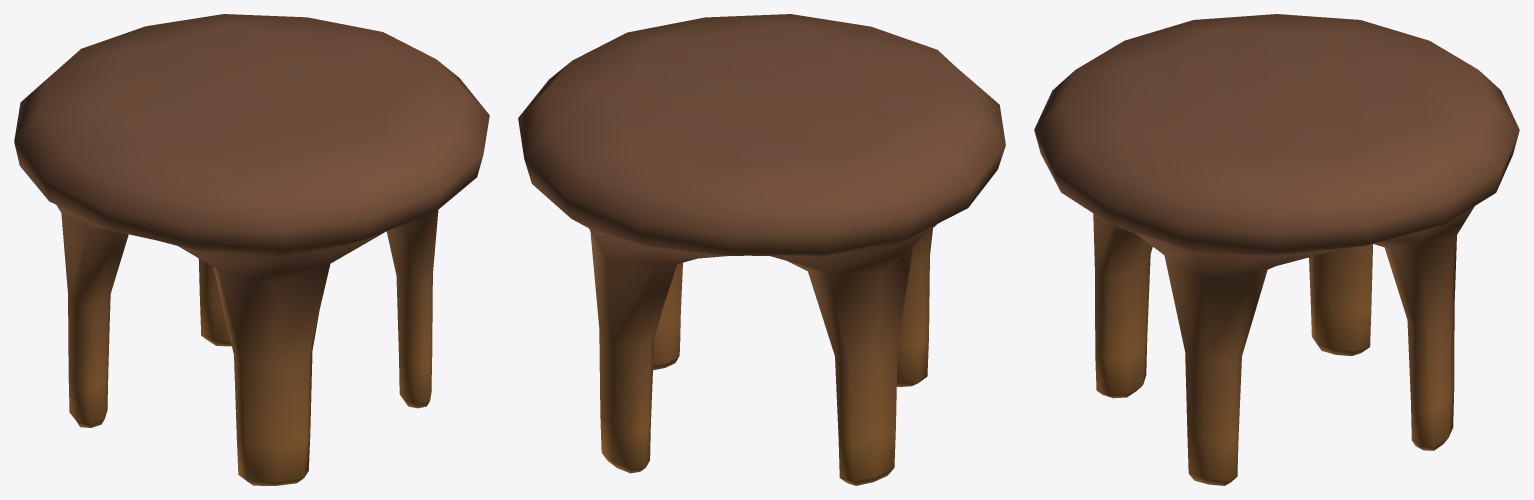
The model's file is stool.fbx.
3 views of the same model, side by side, from view 1: azimuth 30°, elevation 25°; view 2: azimuth 150°, elevation 25°; view 3: azimuth 270°, elevation 25° (orthographic). The views are drawn at different scales.
Parts seen in each view (by area): view 1: Cylinder; view 2: Cylinder; view 3: Cylinder.
Boxes of the visible parts, box(x1,y1,x2,y2) form: Cylinder: box(14, 14, 489, 485); Cylinder: box(518, 14, 1005, 485); Cylinder: box(1034, 14, 1519, 485).
Bounding box in the file's own units: 53.75 × 39.49 × 53.76.
